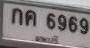letters: (12, 8, 23, 25), (25, 10, 36, 26), (46, 13, 56, 30), (68, 16, 78, 33), (79, 18, 89, 35), (58, 14, 66, 31)
province: (34, 35, 58, 44)
